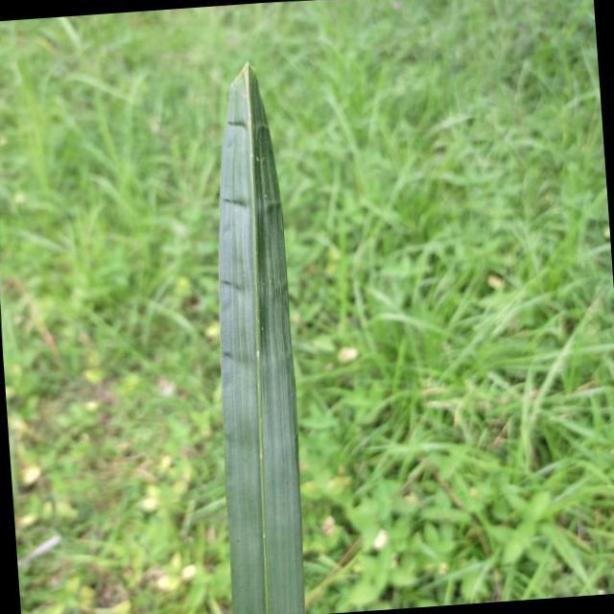Boron: (214, 54, 307, 614)
